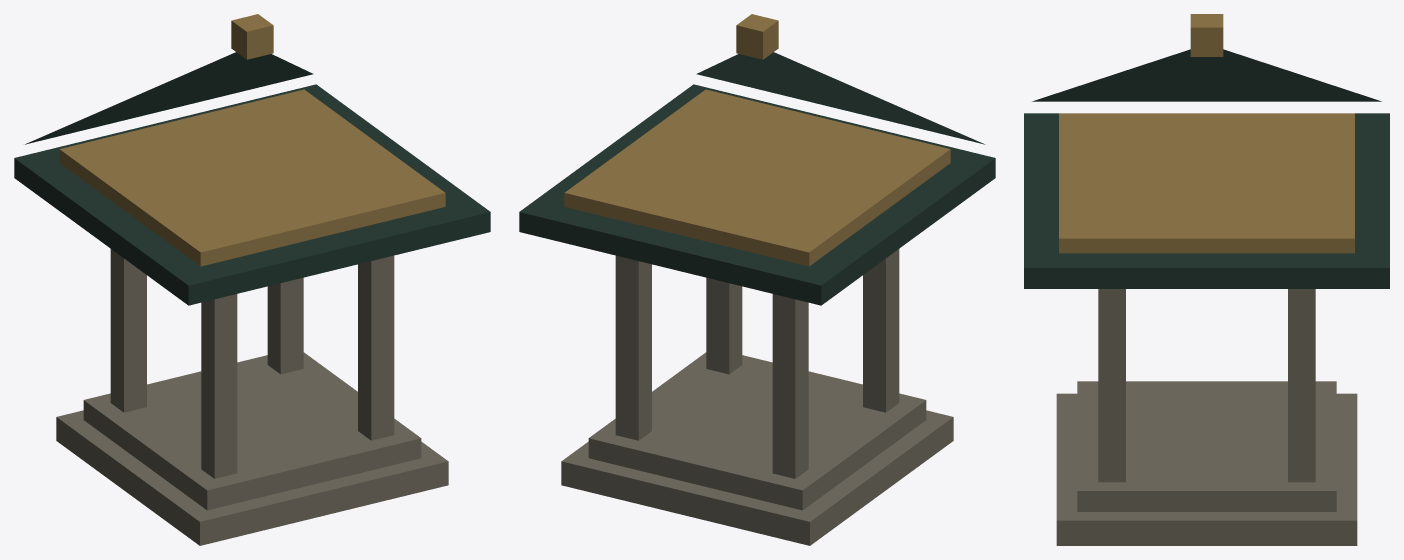
The model's file is shrine1.obj.
3 views of the same model, side by side, from view 1: azimuth 30°, elevation 25°; view 2: azimuth 150°, elevation 25°; view 3: azimuth 270°, elevation 25° (orthographic). The views are drawn at different scales.
Parts seen in each view (by area): view 1: shrine1; view 2: shrine1; view 3: shrine1.
Part boxes in pixels (x1,y1,x2,y2): shrine1: (14, 14, 490, 545); shrine1: (519, 14, 995, 545); shrine1: (1024, 14, 1389, 545).
Size of the model in its own units: 3.16 by 4.4 by 3.16.
